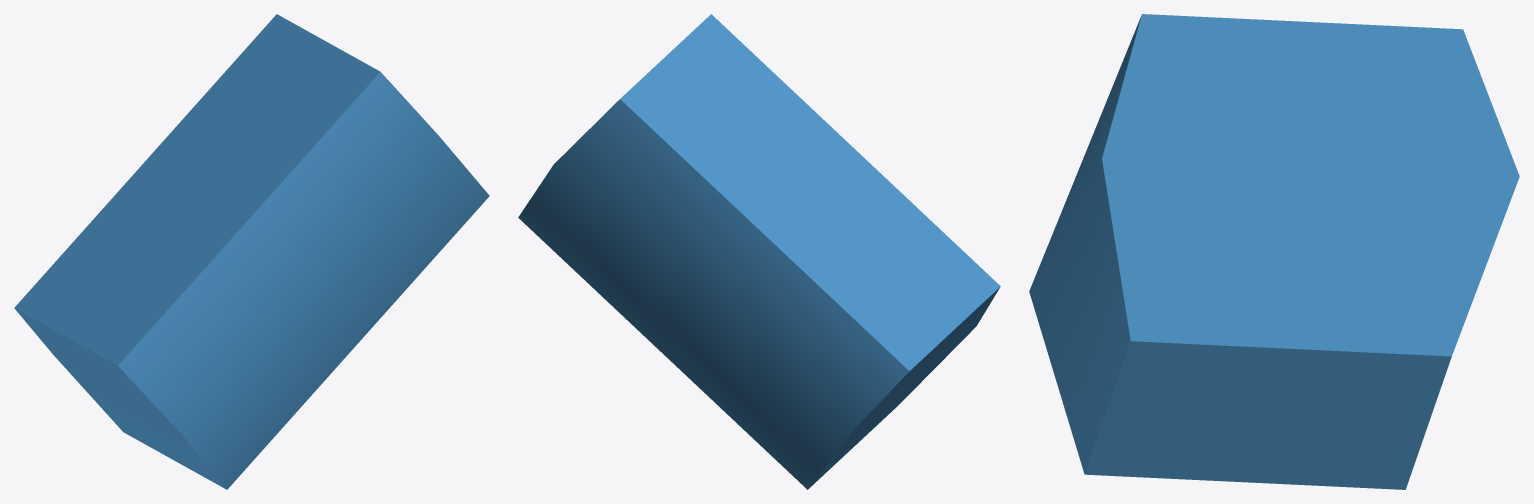
The model's file is Driver_Thumb_A_2.fbx.
The picture shows the model from 3 angles, left to right: view 1: azimuth 30°, elevation 25°; view 2: azimuth 150°, elevation 25°; view 3: azimuth 270°, elevation 25°; orthographic projection. The views are drawn at different scales.
Visible parts, largest first — view 1: Driver_Thumb_A_2; view 2: Driver_Thumb_A_2; view 3: Driver_Thumb_A_2.
Boxes of the visible parts, x1,y1,x2,y2 form: Driver_Thumb_A_2: (14,14,489,489); Driver_Thumb_A_2: (518,14,1000,489); Driver_Thumb_A_2: (1029,14,1519,489).
Bounding box in the file's own units: 4.46 × 4.13 × 2.97.
